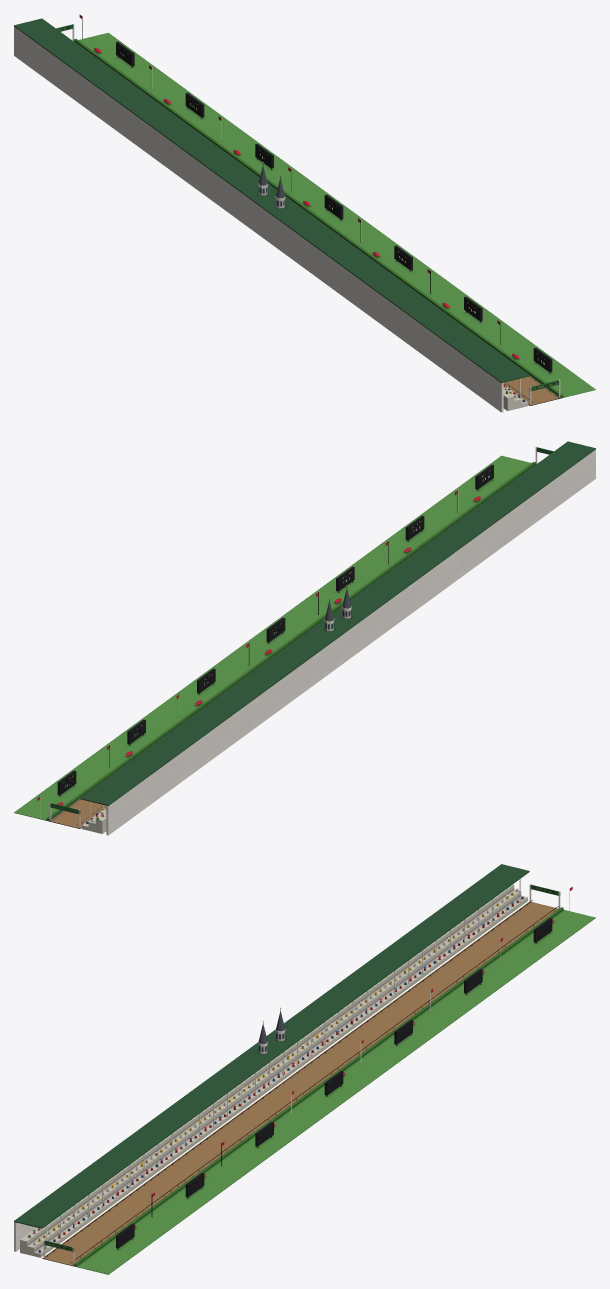
The model's file is hipodromo.glb.
The picture shows the model from 3 angles, top to bottom: view 1: azimuth 30°, elevation 25°; view 2: azimuth 150°, elevation 25°; view 3: azimuth 330°, elevation 25°; orthographic projection.
Parts seen in each view (by area): view 1: hipodromo; view 2: hipodromo; view 3: hipodromo.
Boxes of the visible parts, x1,y1,x2,y2 form: hipodromo: (14,14,595,412); hipodromo: (14,441,595,835); hipodromo: (14,864,595,1274).
Size of the model in its own units: 47 by 29.88 by 422.
1 material, 1 textured.
